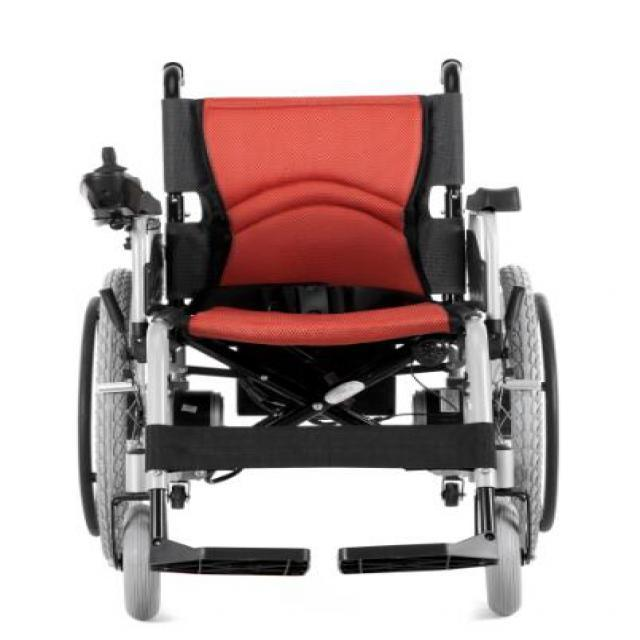wheelchair: (57, 54, 575, 632)
